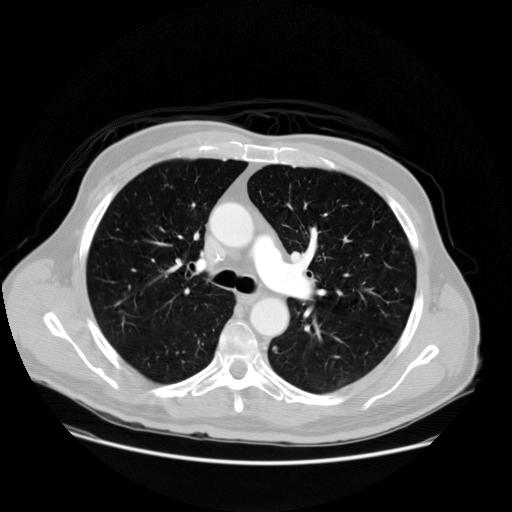nodule: (270, 344, 281, 355)
